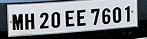0: (111, 4, 121, 23), (50, 10, 60, 28)
1: (123, 4, 132, 22)
2: (38, 10, 49, 28)
6: (100, 6, 110, 24)
7: (89, 6, 100, 25)
E: (74, 8, 87, 26), (64, 8, 75, 26)
H: (23, 11, 36, 29)
M: (11, 12, 23, 30)
